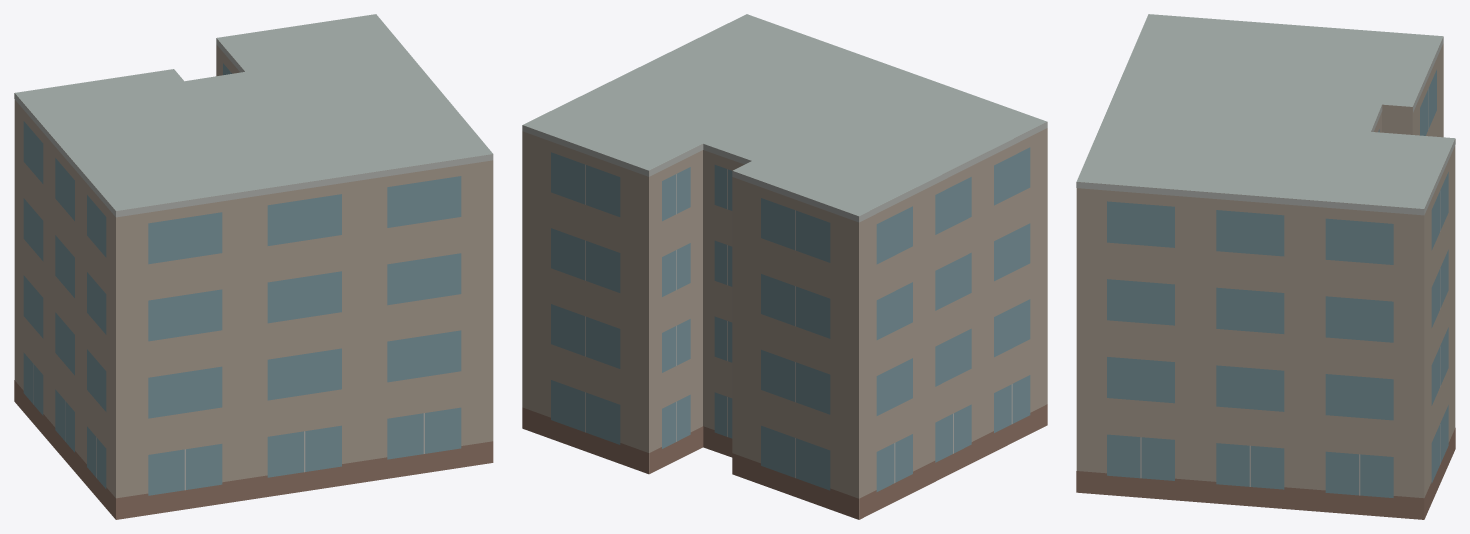
File: survey-upis-32704934.glb
3 renders of one model, left to right at view 1: azimuth 30°, elevation 25°; view 2: azimuth 150°, elevation 25°; view 3: azimuth 270°, elevation 25°, orthographic. The views are drawn at different scales.
Parts seen in each view (by area): view 1: survey-upis-32704934.tmp; view 2: survey-upis-32704934.tmp; view 3: survey-upis-32704934.tmp.
Part boxes in pixels (box(x1,y1,x2,y2)): survey-upis-32704934.tmp: box(14, 14, 493, 519); survey-upis-32704934.tmp: box(522, 14, 1047, 519); survey-upis-32704934.tmp: box(1076, 14, 1455, 519).
Size of the model in its own units: 16.17 by 12 by 13.27.
